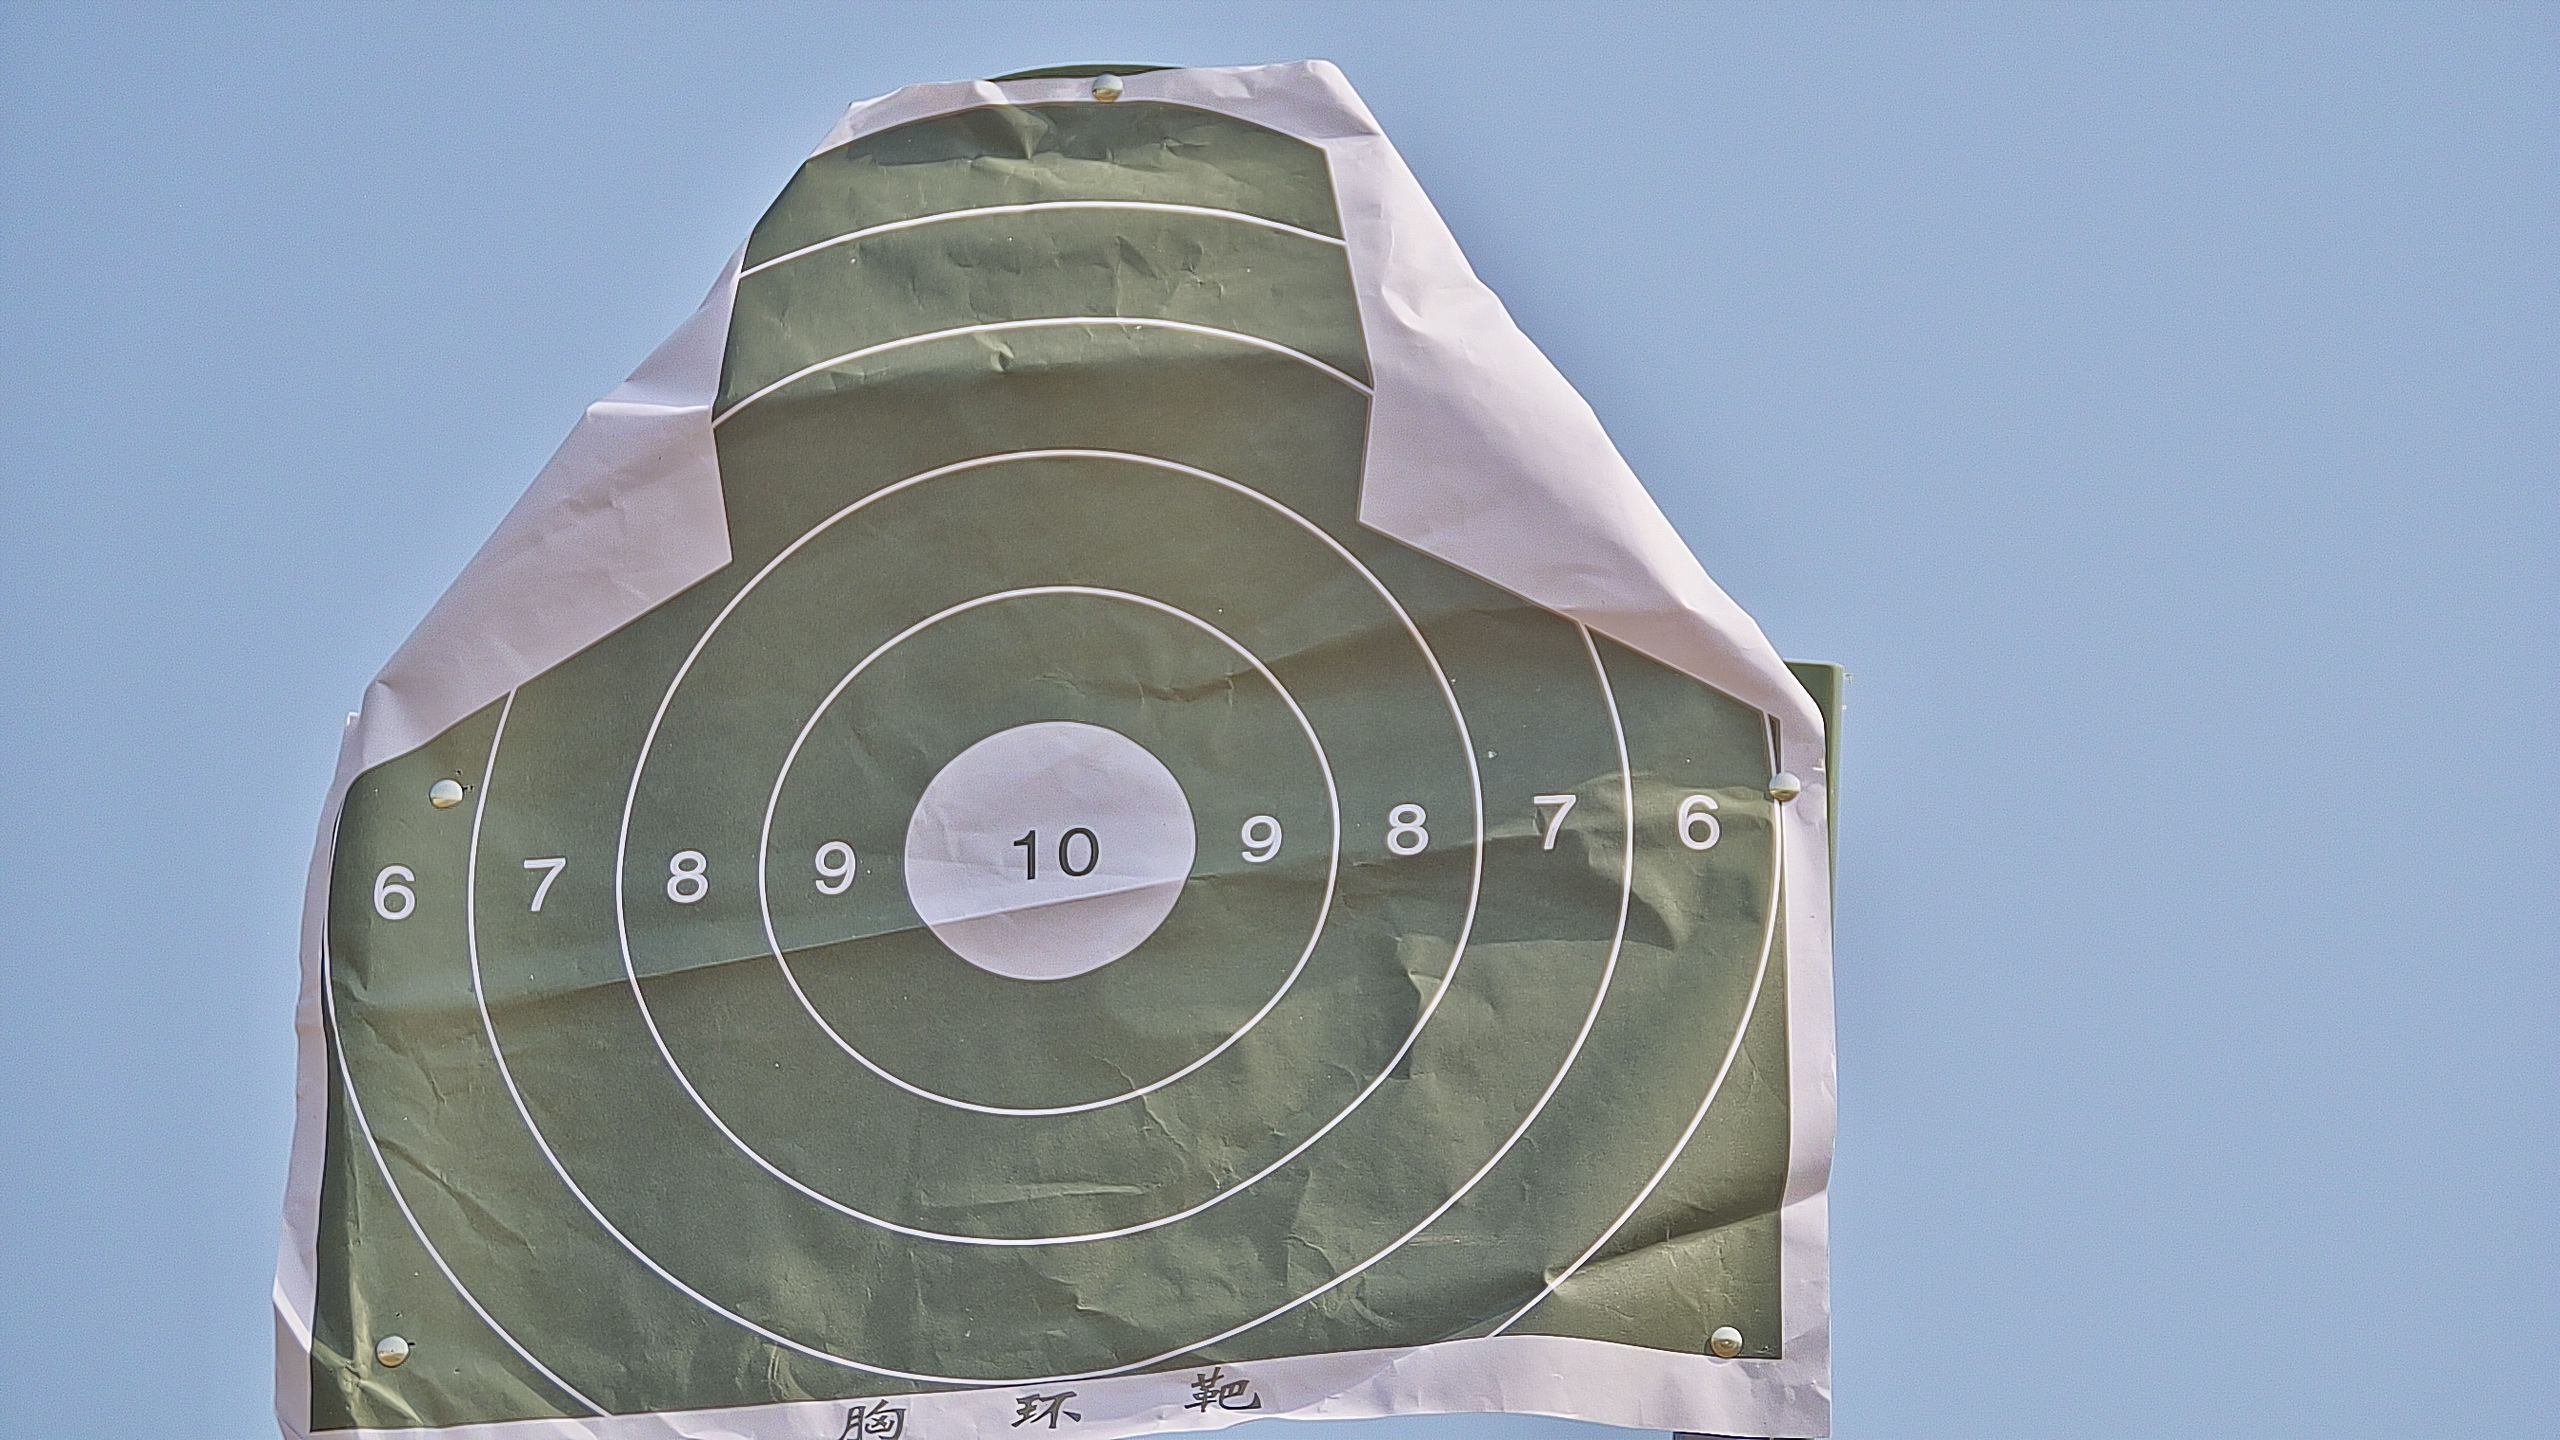target: (308, 95, 1793, 1440)
ten: (905, 719, 1197, 983)
